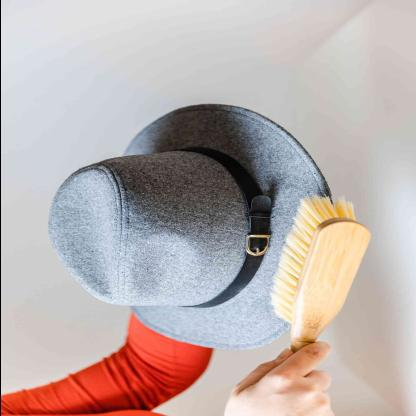hat: (43, 97, 338, 357)
